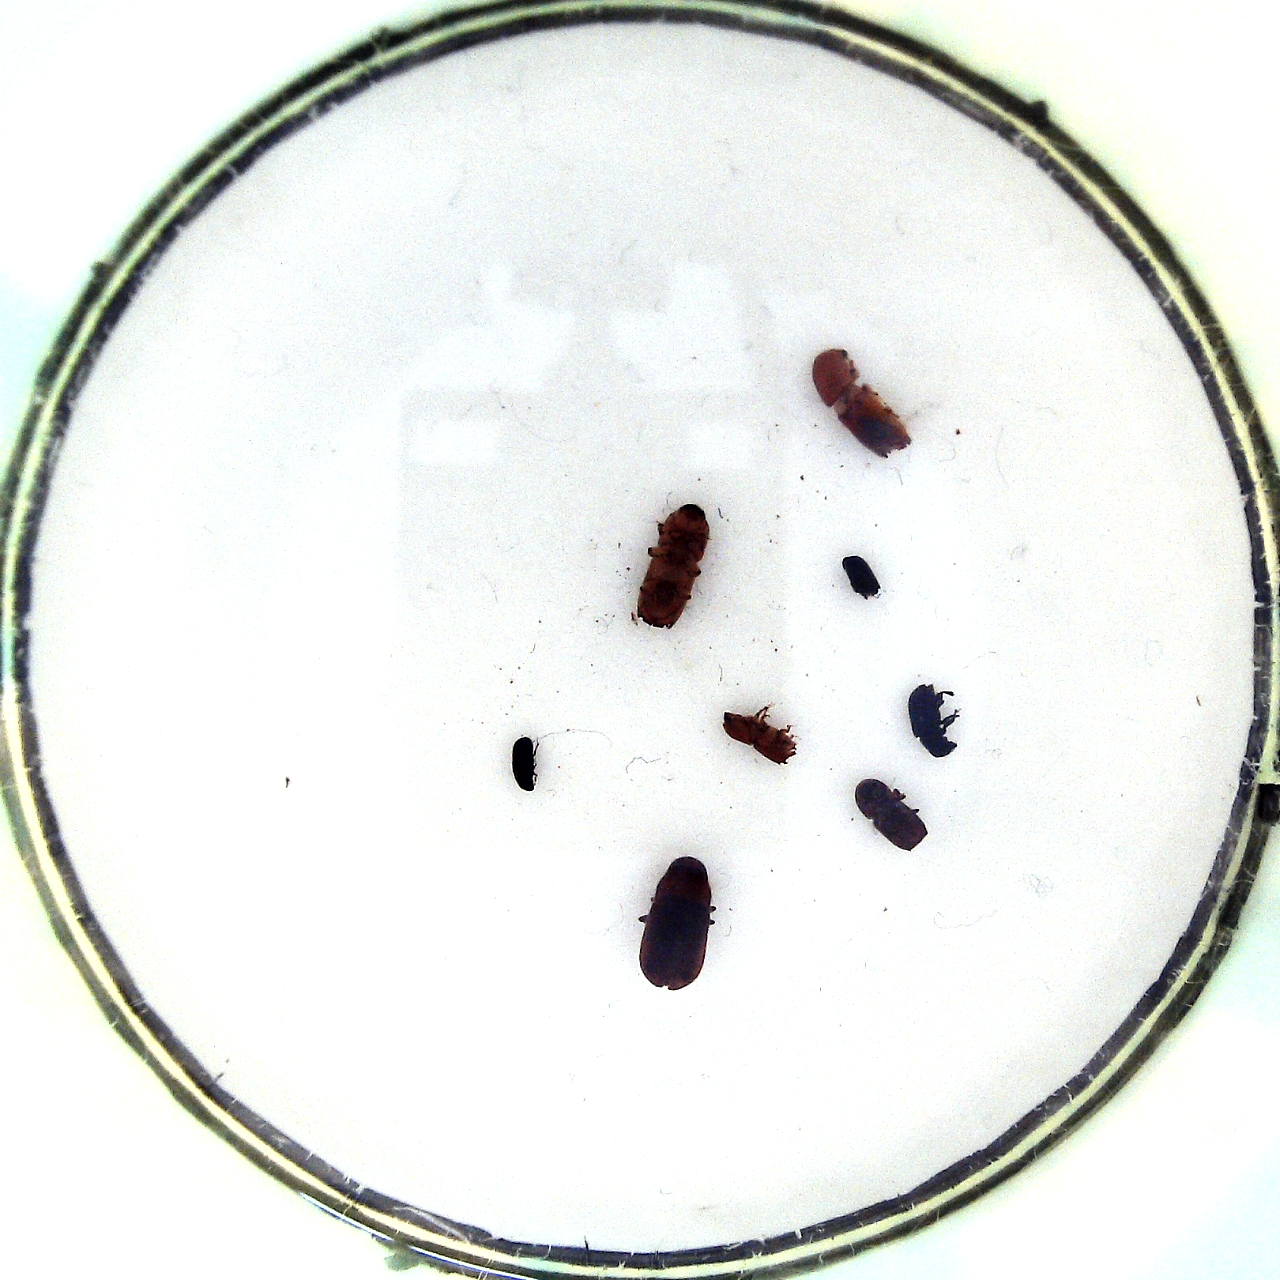Boerner: (811, 345, 915, 459), (634, 501, 714, 638)
Leconte: (632, 853, 721, 992)
Linnaeus: (853, 772, 932, 855)
acuminatus: (717, 707, 804, 769)
armandi: (907, 670, 964, 765)
coleoptera: (840, 549, 886, 604), (508, 730, 540, 792)
